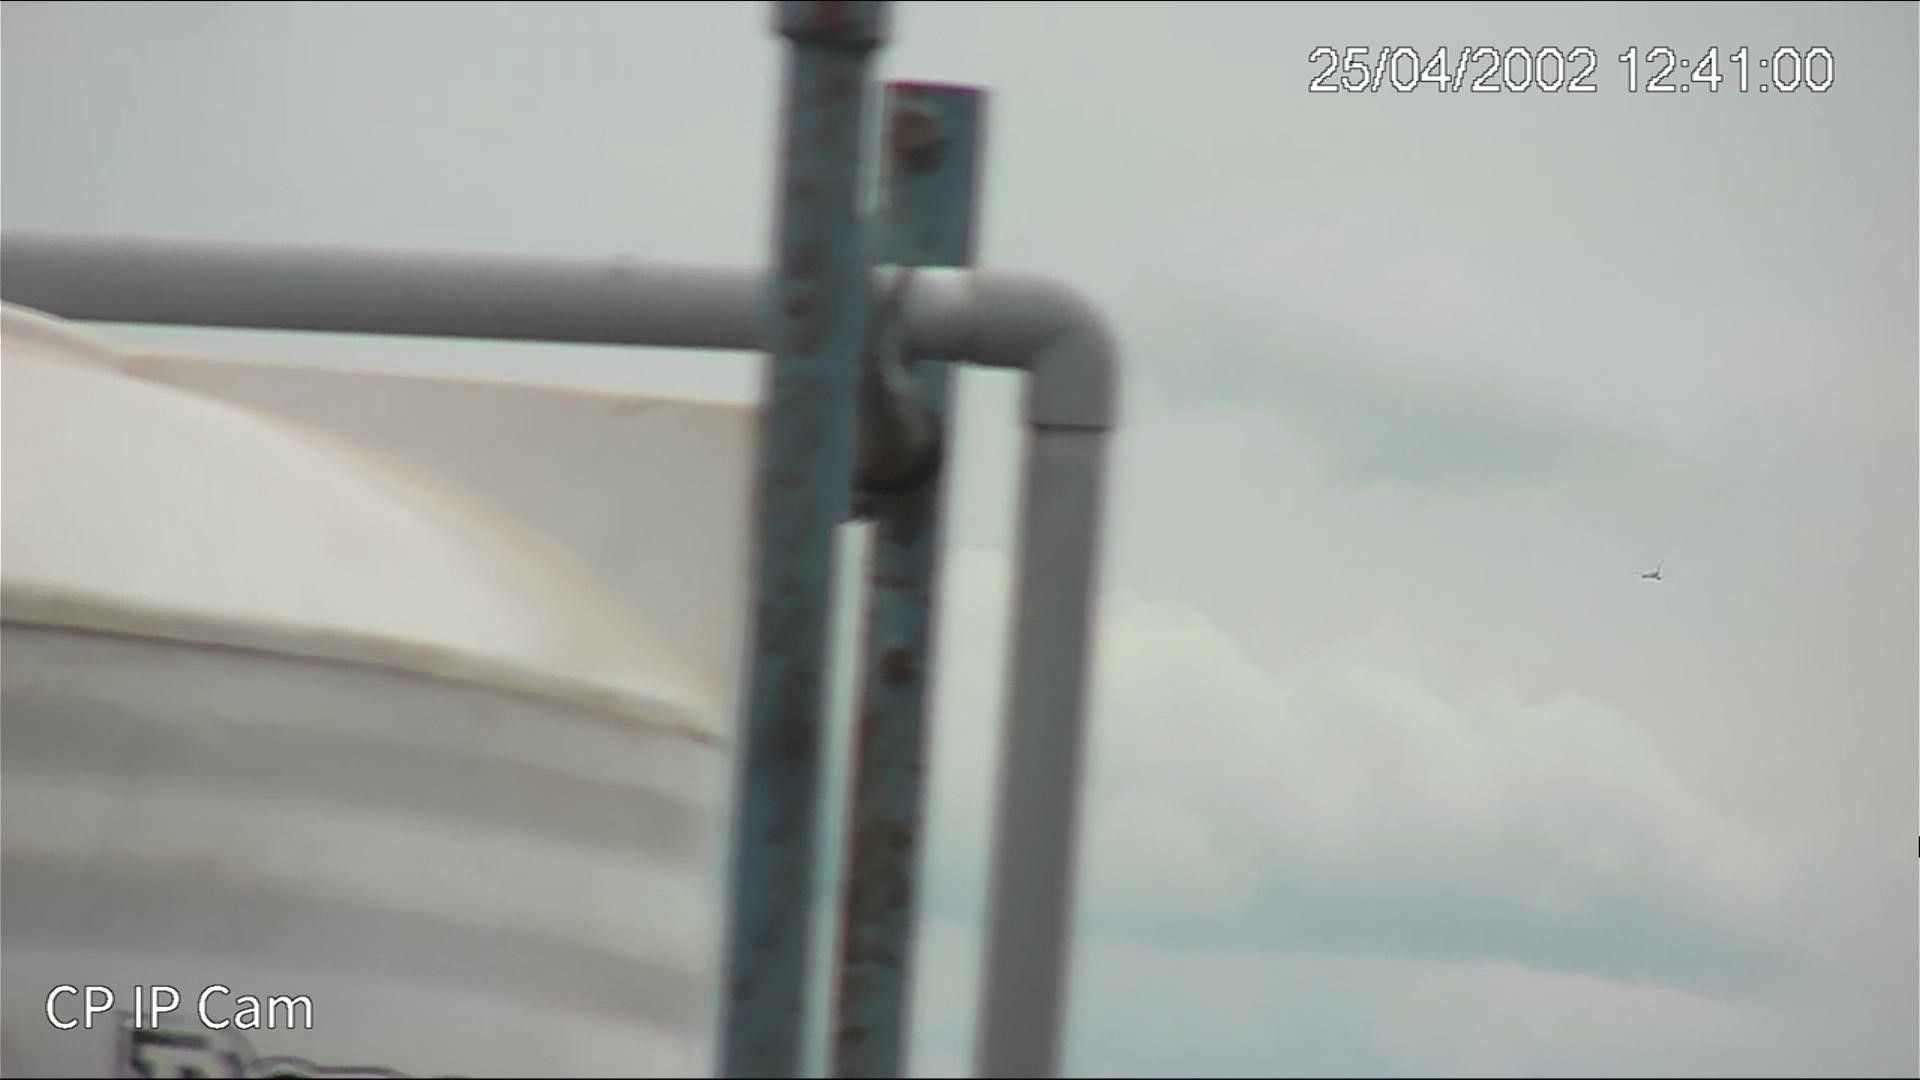SU_30: (1636, 568, 1662, 582)
